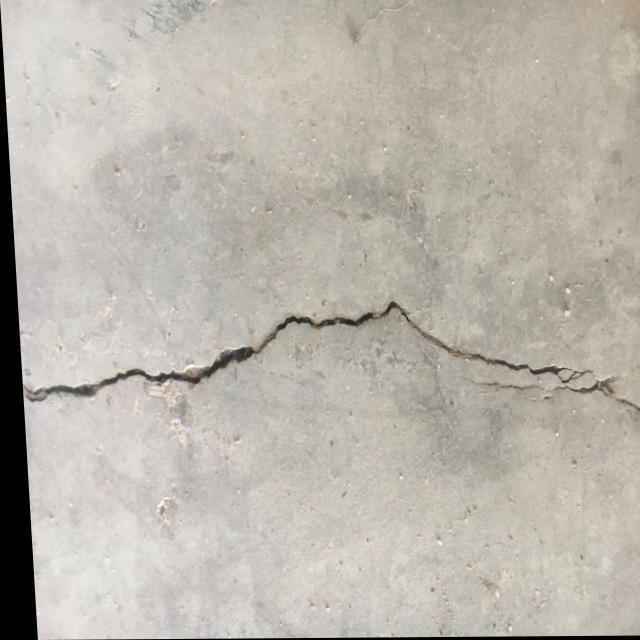Crack: (388, 300, 590, 387), (17, 344, 255, 407), (247, 296, 405, 358), (507, 380, 640, 423)
